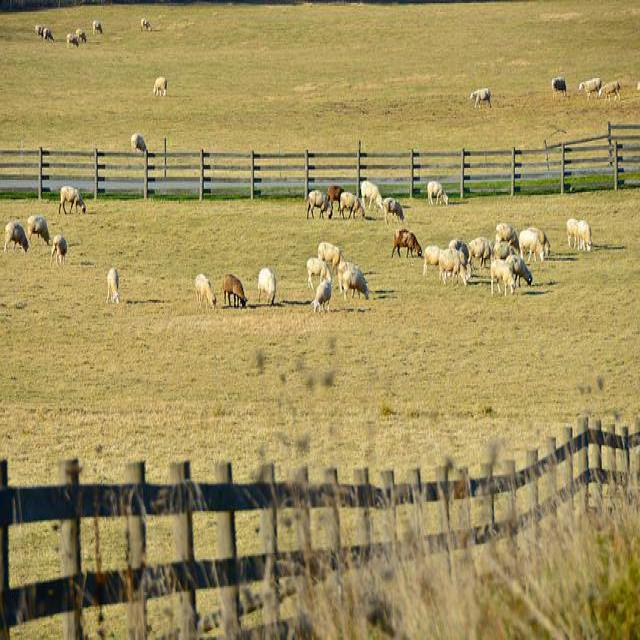Sheep: (7, 15, 623, 313)
